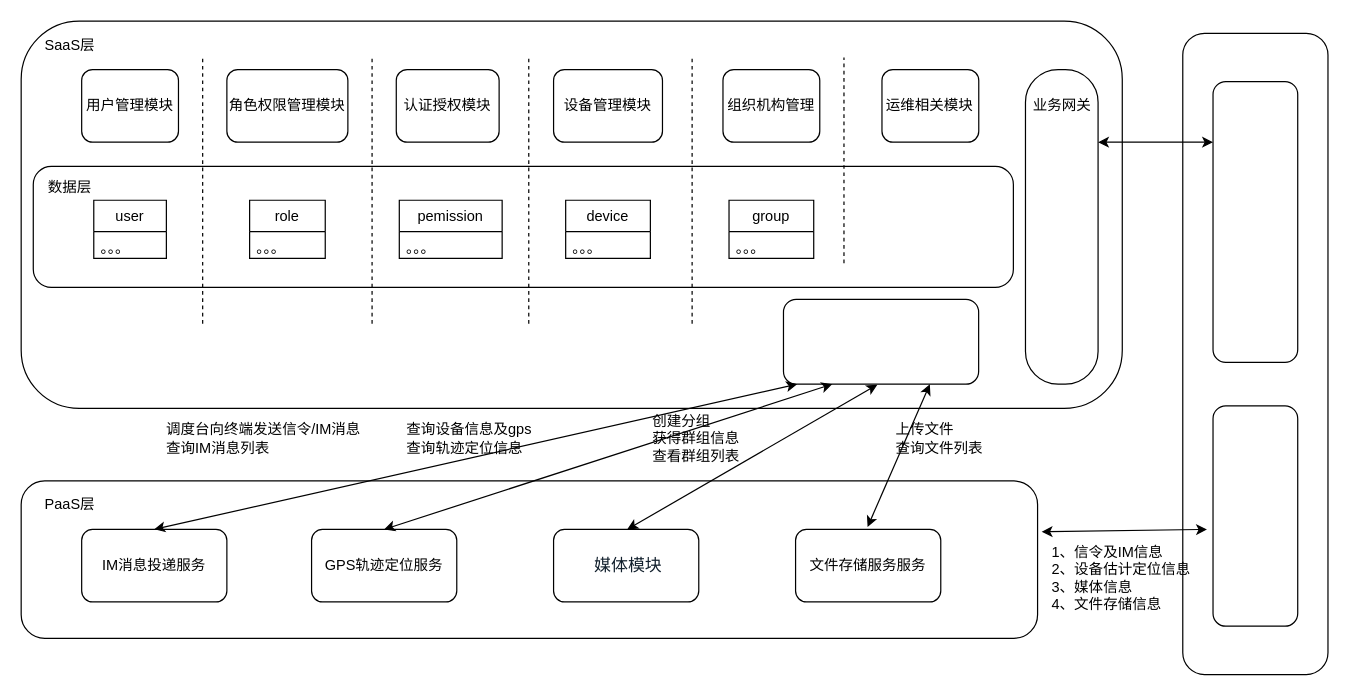
Some shapes in this 1349 by 696 pixel diagram are drawn without their labels. The shapes that lost their labels are listed below. From the top down, each one's centre as x and y in pixels, then its label:
At point (1255, 221): "PC端 web".
At point (880, 341): "第三方服务费代理模块".
At point (1255, 515): "终端设备".
